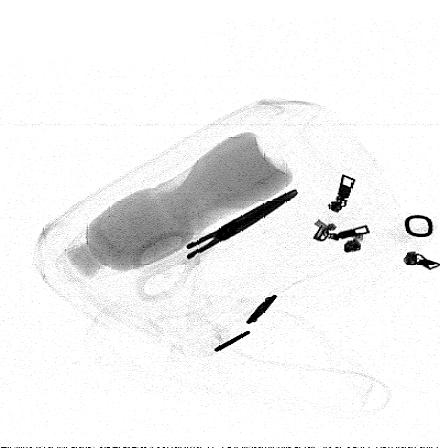Scissors: (131, 187, 298, 305)
